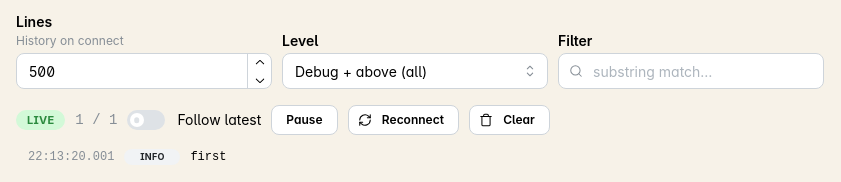
Test case: LogsPanel follow behavior › manually toggling the switch on jumps to the bottom
This screenshot has width=841, height=182.
(page scrolled)
Click the switch labelled "Follow latest": (194,120) [127,110,261,130]
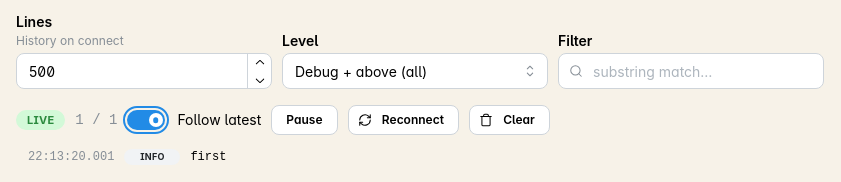
Expected: the switch labelled "Follow latest" is checked, [127,110,261,130]
